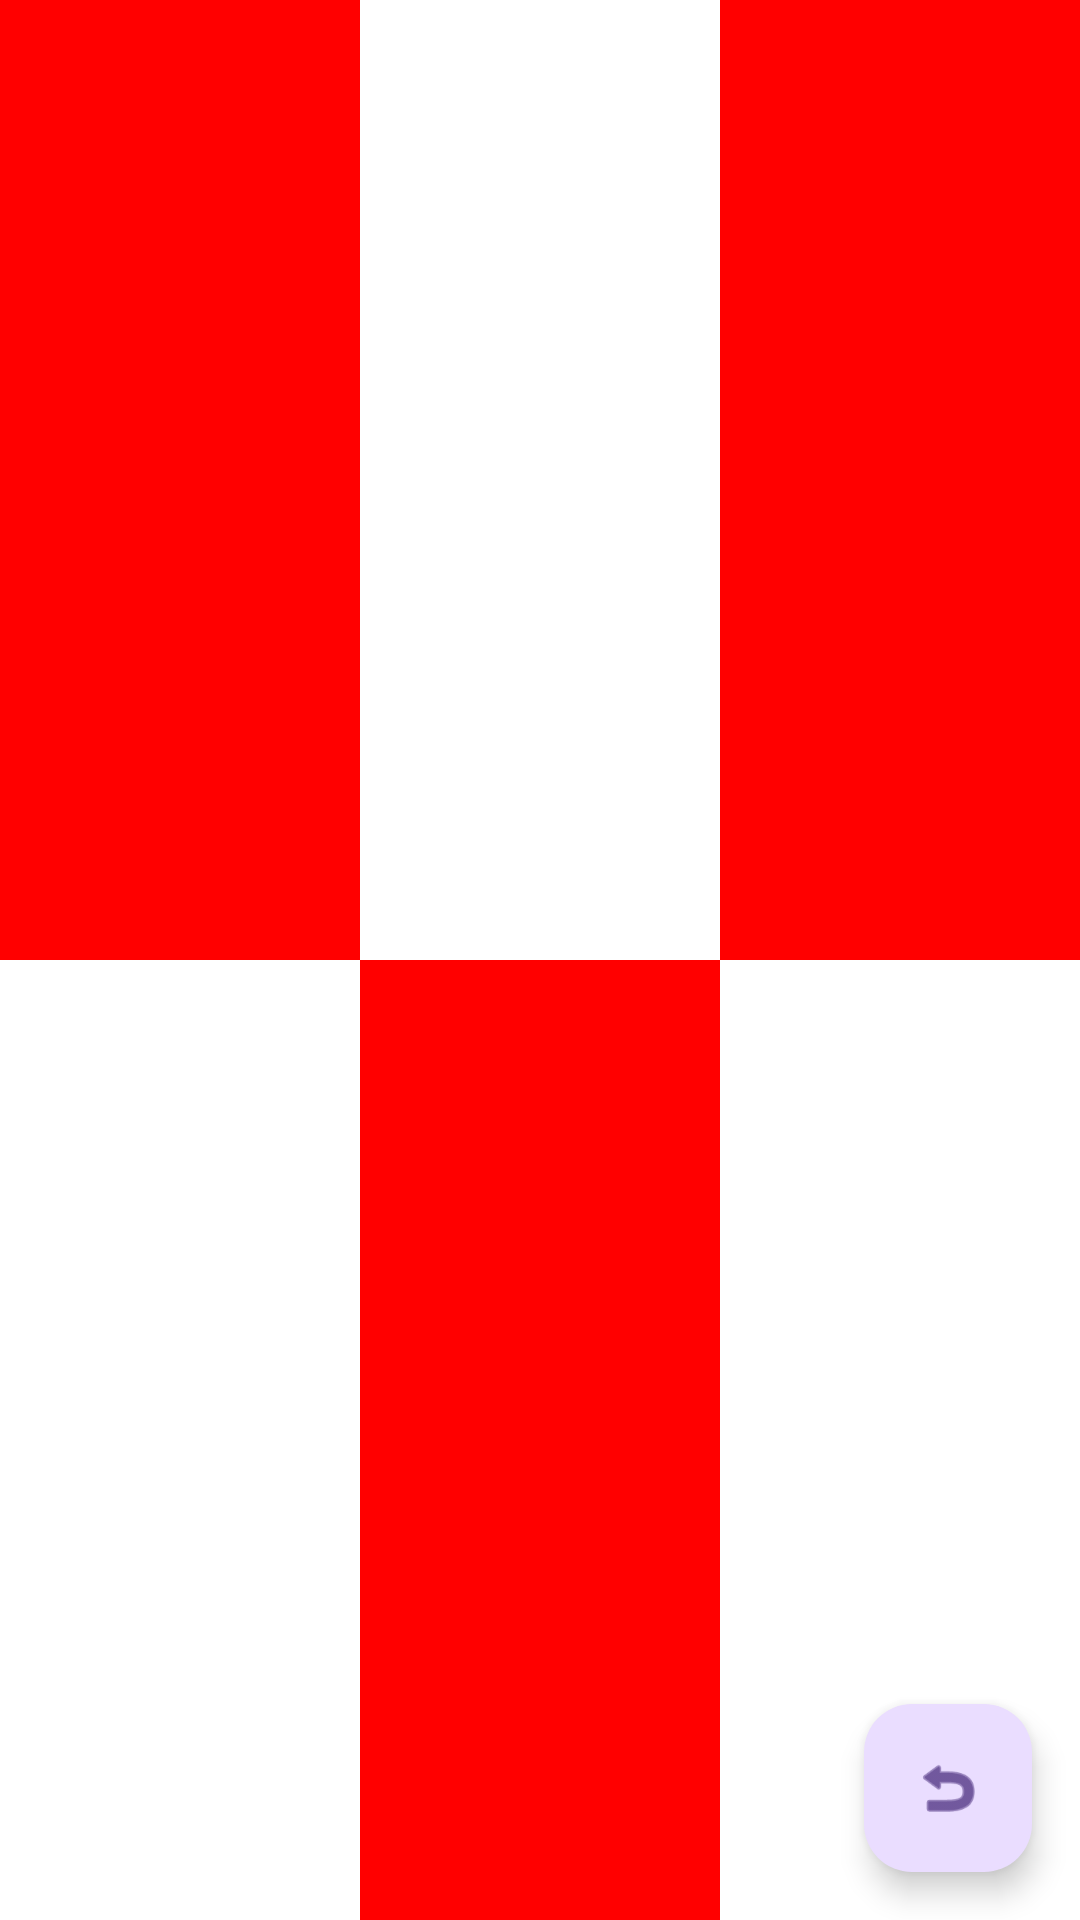

Where icons sit on this 1080*1920 app screen, as (x1=x1, y1=y1, x2=x2, y2=y2):
Volver: (x1=864, y1=1704, x2=1032, y2=1872)
